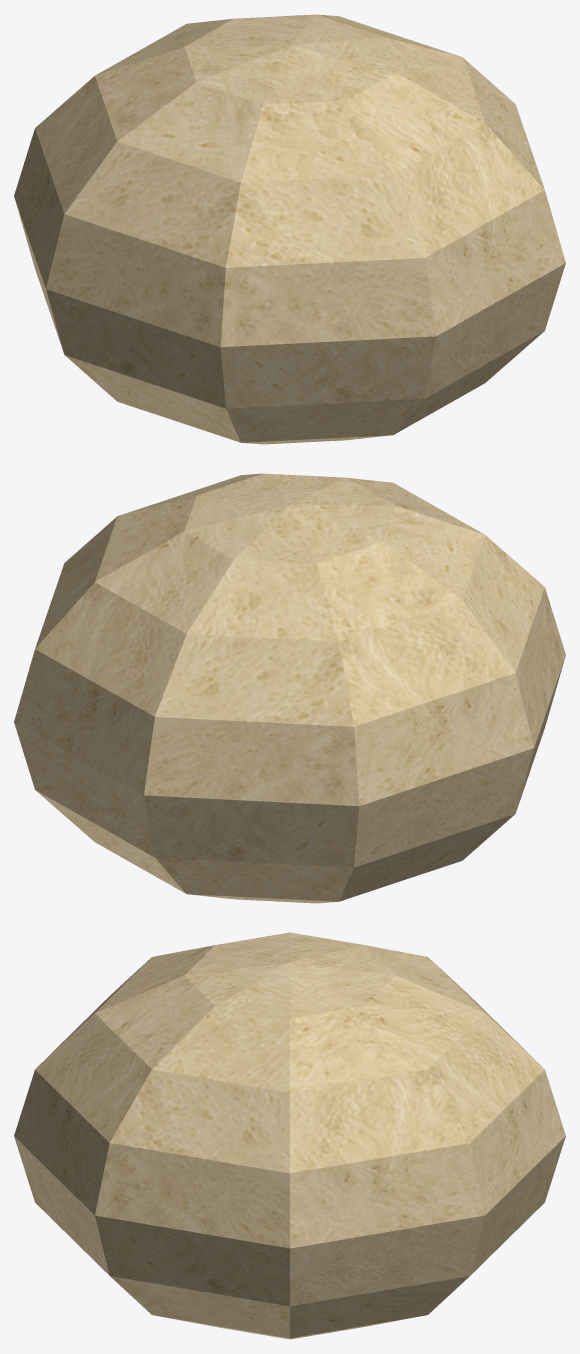
The model's file is Dough.fbx.
The picture shows the model from 3 angles, top to bottom: view 1: azimuth 30°, elevation 25°; view 2: azimuth 150°, elevation 25°; view 3: azimuth 270°, elevation 25°; orthographic projection. The views are drawn at different scales.
Parts seen in each view (by area): view 1: Dough; view 2: Dough; view 3: Dough.
Boxes of the visible parts, box(x1,y1,x2,y2) form: Dough: box(14, 14, 565, 444); Dough: box(14, 473, 565, 903); Dough: box(14, 932, 565, 1339).
Bounding box in the file's own units: 1.13 × 0.785 × 1.17.
1 material, 1 textured.
